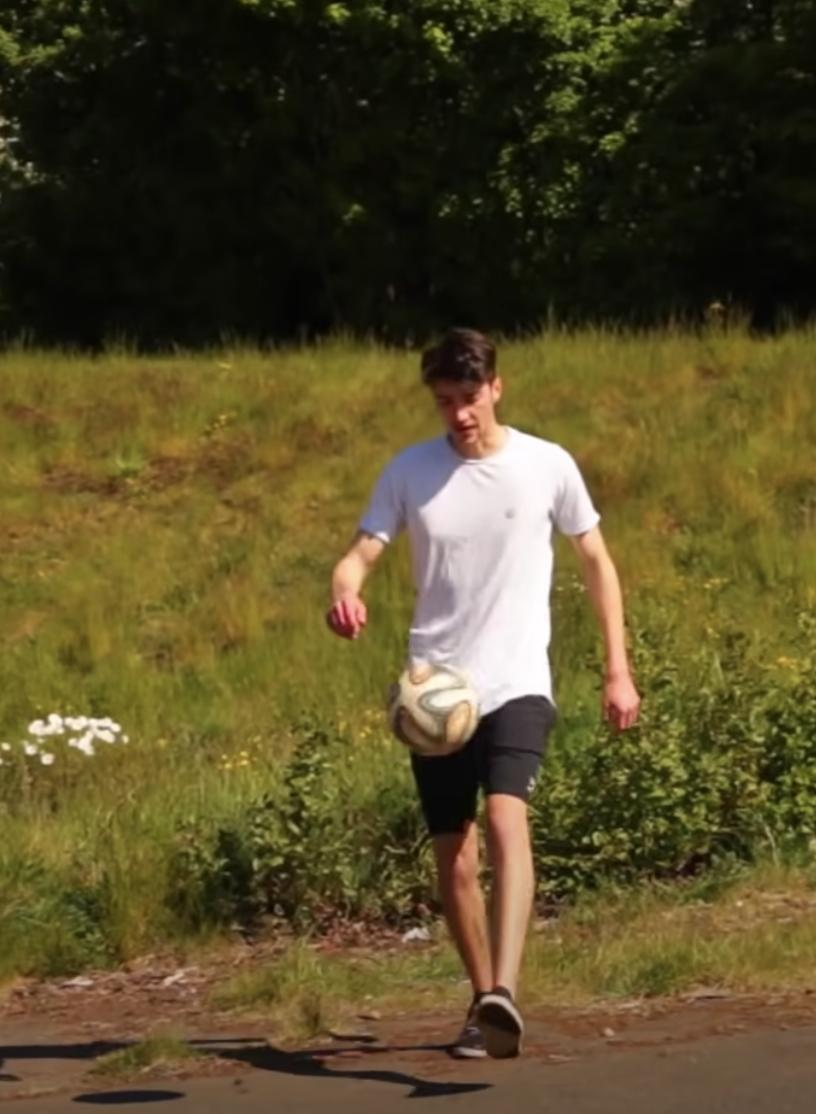ball: (389, 662, 477, 757)
foot: (467, 974, 529, 1064)
person: (323, 330, 642, 1056)
